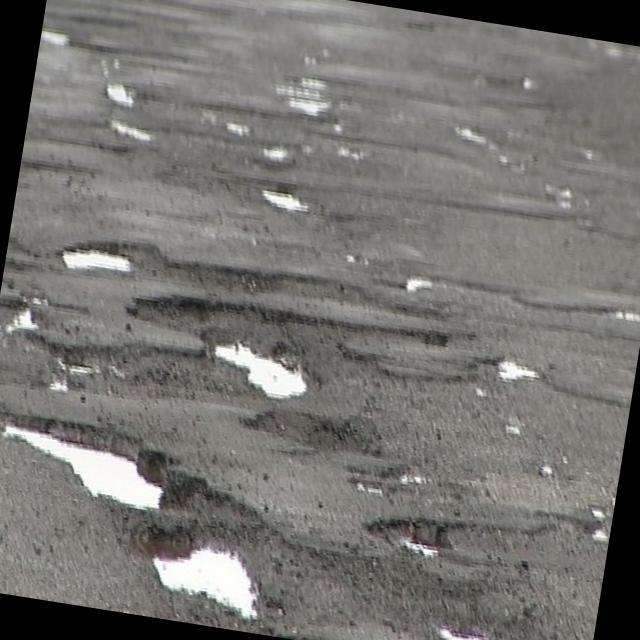Pothole: (0, 397, 191, 519), (185, 298, 347, 422), (142, 498, 297, 616), (483, 346, 574, 422), (366, 500, 468, 562), (256, 165, 341, 238), (438, 116, 522, 174), (280, 82, 360, 135), (58, 235, 150, 281), (100, 117, 178, 162), (100, 70, 156, 126), (246, 136, 310, 174), (532, 196, 614, 222), (214, 114, 272, 148), (400, 263, 453, 295), (582, 502, 614, 554), (494, 414, 538, 449), (615, 292, 640, 346), (40, 16, 75, 48)
